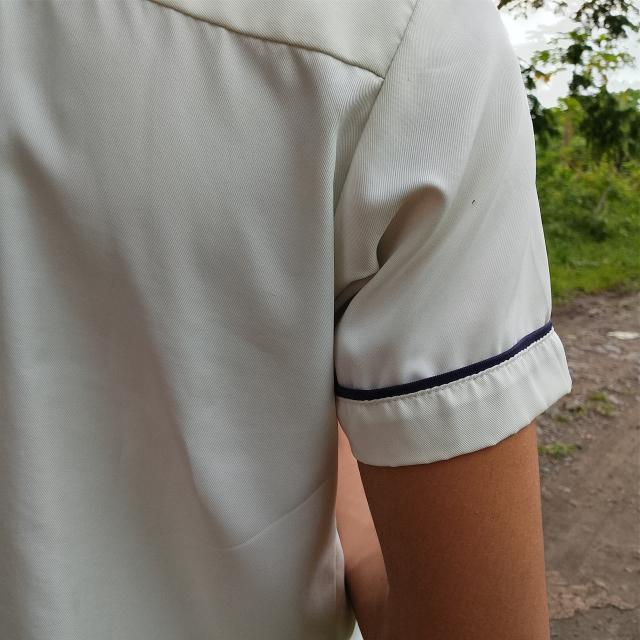education_male_uniform: (25, 8, 592, 508)
